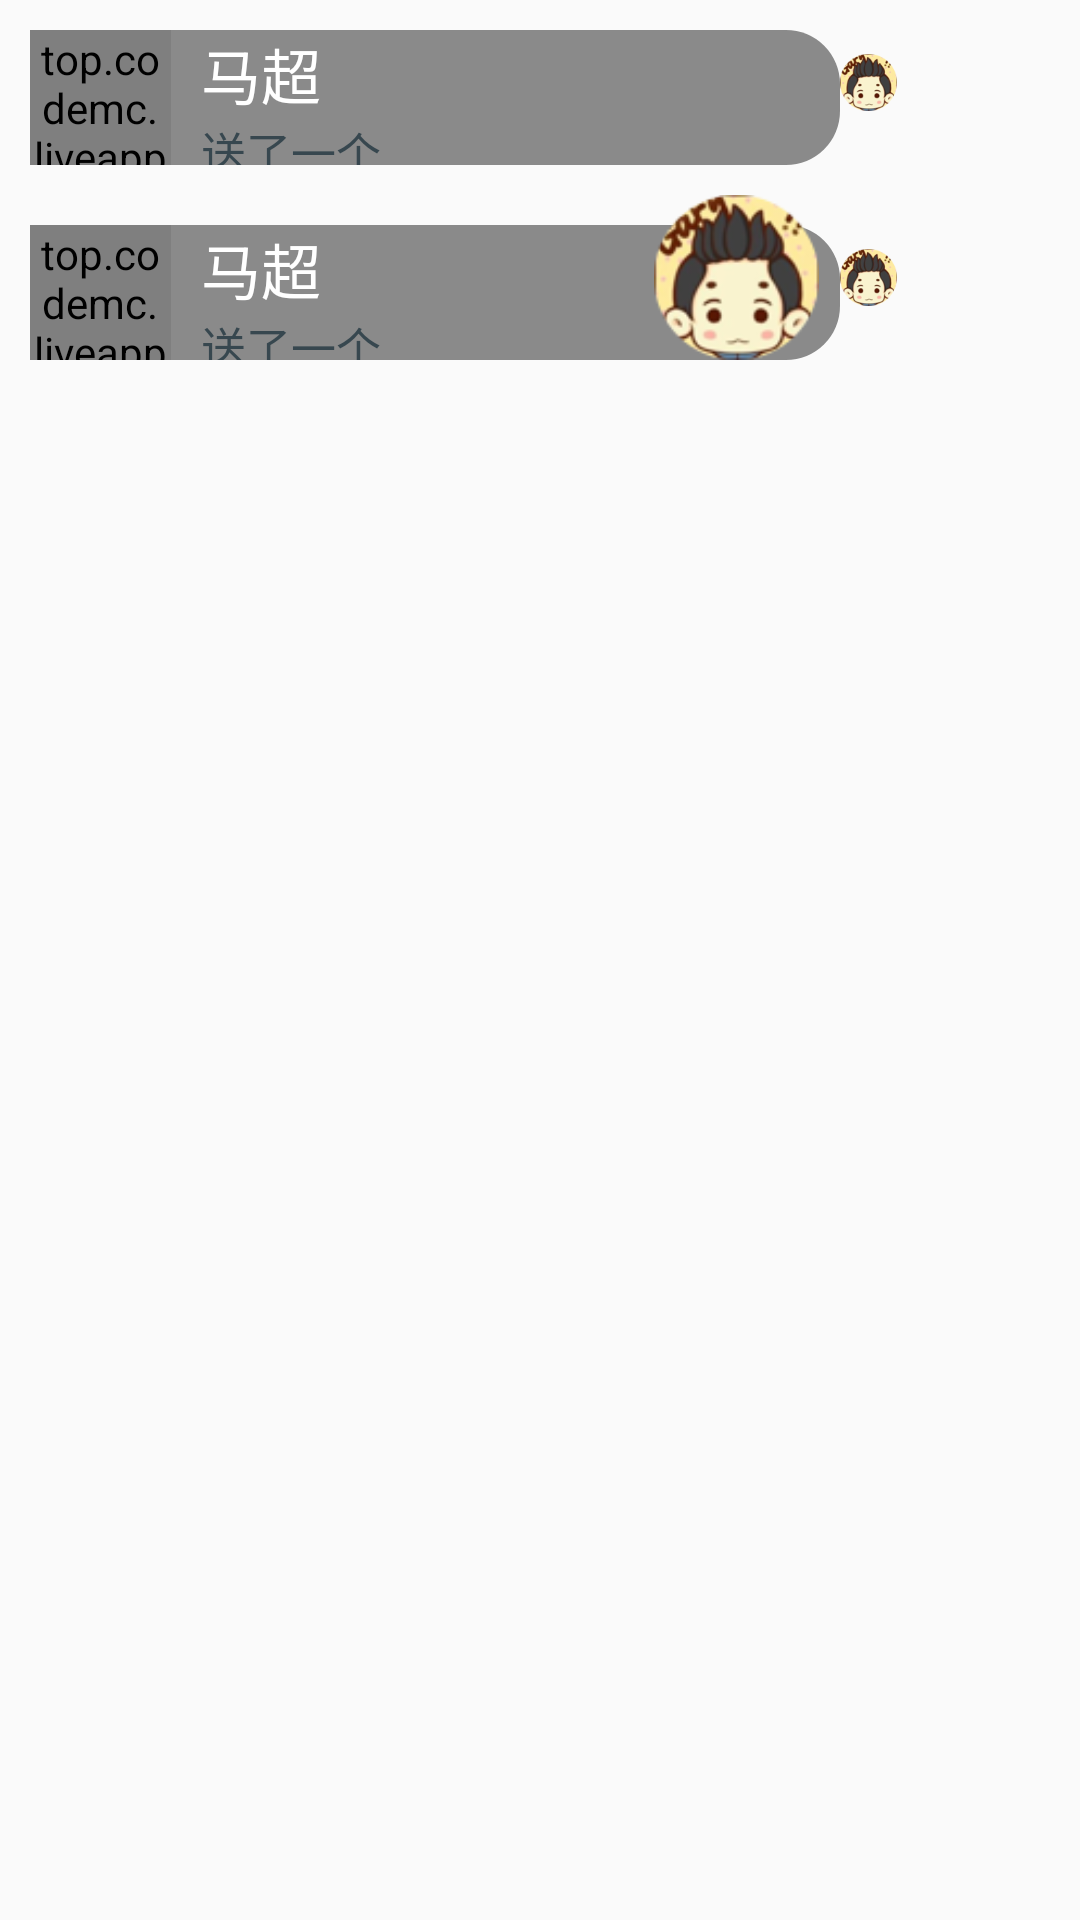

Icon bounding boxes for this 1080x1920 phone screenshot, format bbox(x1, y1, x2, y2):
liva user: bbox(840, 54, 897, 111), bbox(654, 195, 819, 360), bbox(840, 249, 897, 306)
